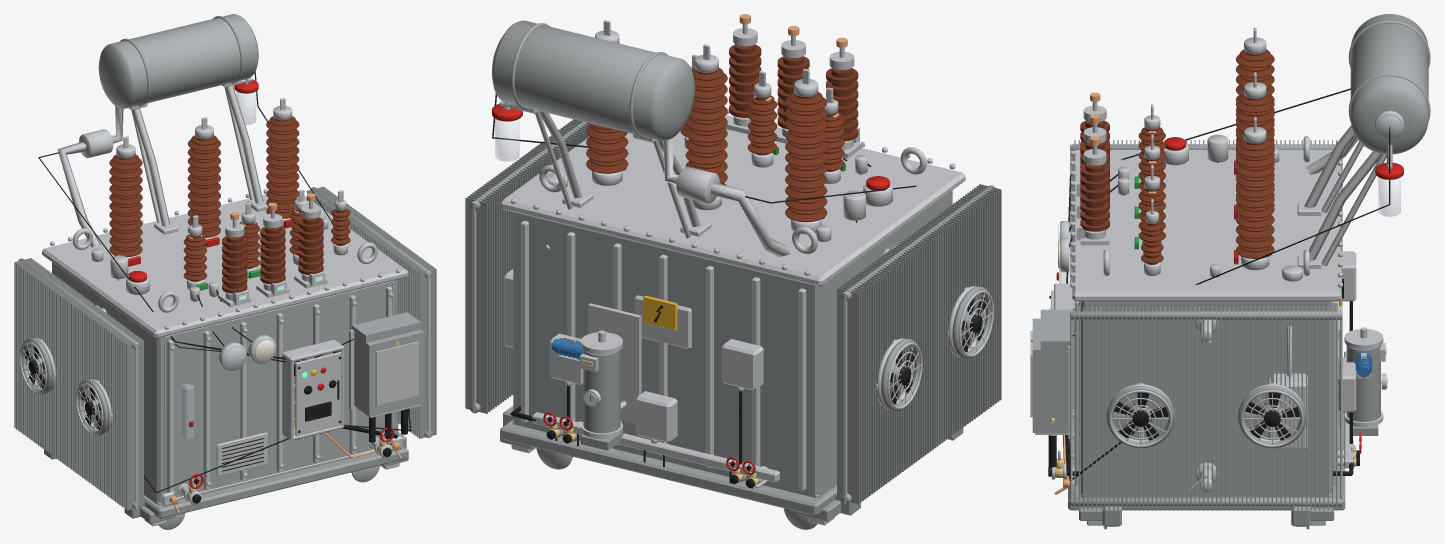
The model's file is Power_Transformer_Parts.glb.
The picture shows the model from 3 angles, left to right: view 1: azimuth 30°, elevation 25°; view 2: azimuth 150°, elevation 25°; view 3: azimuth 270°, elevation 25°; orthographic projection. The views are drawn at different scales.
Visible parts, largest first — view 1: Radiator_L, Front_Cover, Tank_Lid, Conservator, Tank_Structure, Cable_Box, Radiator_R, Lightning_Arrester, Marshalling_Cabinet, Base_Frame, HV_Bushing_1, HV_Bushing_2 (+19 smaller); view 2: Tank_Structure, Radiator_L, Tank_Lid, Conservator, Radiator_R, Rear_Junction_Boxes, Lightning_Arrester, Oil_Filter_Unit, Base_Frame, HV_Bushing_1, HV_Bushing_2, Buchholz_Relay (+13 smaller); view 3: Tank_Structure, Tank_Lid, Radiator_R, Conservator, Cable_Box, HV_Bushing_3, Lightning_Arrester, Base_Frame, Fan_R_N, Fan_R_P, Oil_Filter_Unit, Rear_Junction_Boxes (+19 smaller).
Part boxes in pixels (x1,y1,x2,y2): Radiator_L: (14, 258, 143, 510); Front_Cover: (155, 280, 395, 503); Tank_Lid: (42, 189, 408, 338); Conservator: (98, 14, 268, 234); Tank_Structure: (52, 262, 398, 504); Cable_Box: (349, 312, 424, 442); Radiator_R: (307, 186, 436, 438); Lightning_Arrester: (218, 193, 327, 307); Marshalling_Cabinet: (282, 340, 344, 440); Base_Frame: (44, 432, 408, 526); HV_Bushing_1: (109, 136, 142, 266); HV_Bushing_2: (187, 117, 220, 247); Tank_Structure: (512, 190, 952, 497); Radiator_L: (837, 184, 1001, 504); Tank_Lid: (500, 108, 965, 286); Conservator: (492, 20, 711, 238); Radiator_R: (465, 119, 589, 413); Rear_Junction_Boxes: (510, 333, 779, 488); Lightning_Arrester: (724, 14, 863, 158); Oil_Filter_Unit: (580, 303, 641, 450); Base_Frame: (500, 405, 963, 525); HV_Bushing_1: (785, 68, 827, 234); HV_Bushing_2: (685, 44, 727, 210); Buchholz_Relay: (663, 137, 790, 256); Tank_Structure: (1073, 301, 1338, 497); Tank_Lid: (1070, 150, 1342, 301); Radiator_R: (1070, 306, 1342, 510); Conservator: (1297, 14, 1430, 268); Cable_Box: (1030, 309, 1072, 467); HV_Bushing_3: (1234, 117, 1274, 270); Lightning_Arrester: (1080, 92, 1109, 245); Base_Frame: (1068, 358, 1345, 526); Fan_R_N: (1106, 383, 1174, 448); Fan_R_P: (1238, 383, 1306, 448); Oil_Filter_Unit: (1338, 306, 1383, 435); Rear_Junction_Boxes: (1065, 251, 1356, 475).
Size of the model in its own units: 7.8 by 8.56 by 6.99.
